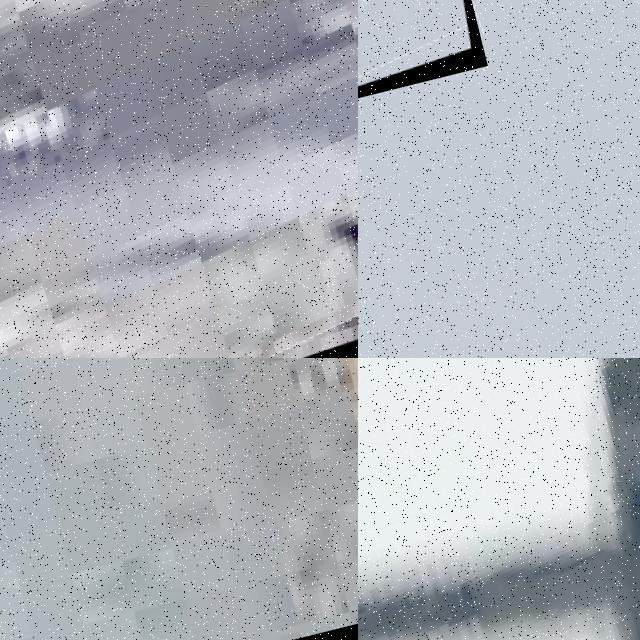0: (0, 0, 358, 358)
drone: (358, 358, 640, 640), (358, 0, 488, 130)
